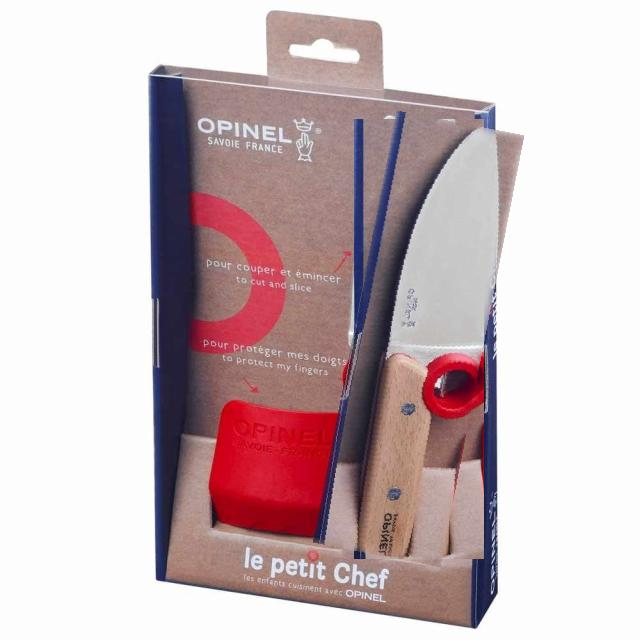knife: (334, 115, 504, 563)
